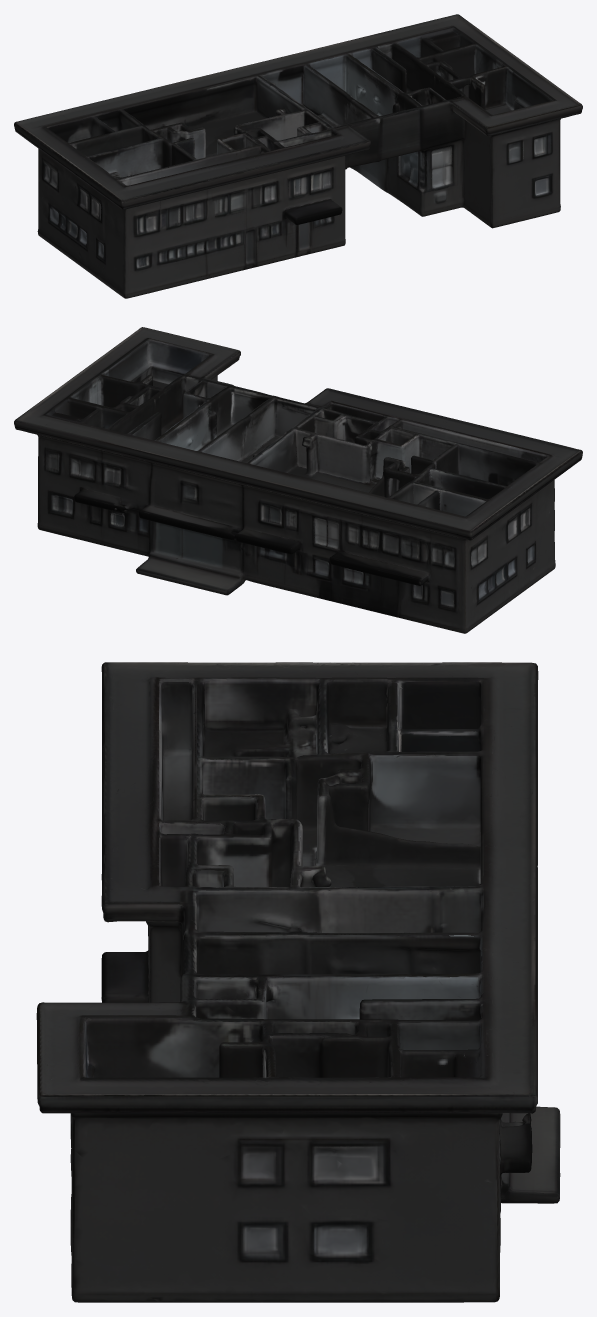
File: Tipsport.glb
3 renders of one model, top to bottom at view 1: azimuth 30°, elevation 25°; view 2: azimuth 150°, elevation 25°; view 3: azimuth 270°, elevation 25°, orthographic. The views are drawn at different scales.
Parts seen in each view (by area): view 1: world; view 2: world; view 3: world.
Part boxes in pixels (<box>): world: <box>14,14,582,298</box>; world: <box>14,327,582,633</box>; world: <box>36,662,560,1302</box>.
Bounding box in the file's own units: 1 × 0.2483 × 0.5087.
Materials: 1 (1 with a texture image).
